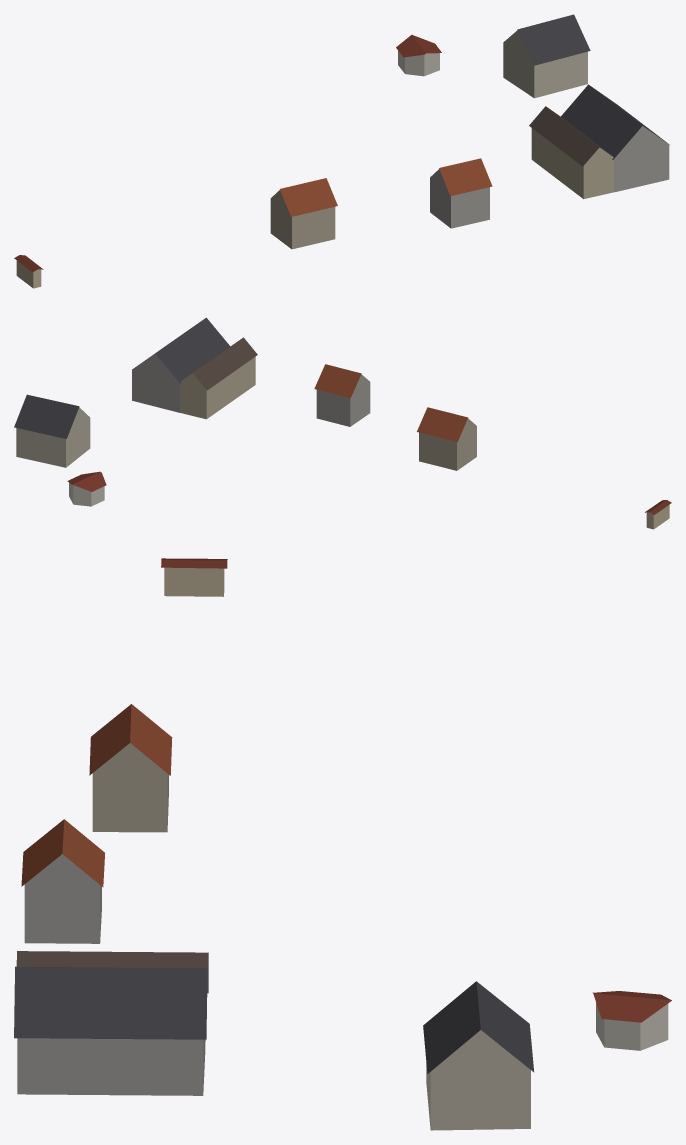
The picture shows the model from 3 angles, top to bottom: view 1: azimuth 30°, elevation 25°; view 2: azimuth 150°, elevation 25°; view 3: azimuth 270°, elevation 25°; orthographic projection. The views are drawn at different scales.
Parts seen in each view (by area): view 1: buildings; view 2: buildings; view 3: buildings.
Part boxes in pixels (bbox=[...]): buildings: bbox=[14, 14, 669, 288]; buildings: bbox=[14, 317, 671, 529]; buildings: bbox=[14, 558, 671, 1130].
Bounding box in the file's own units: 116 × 10.96 × 60.39.
